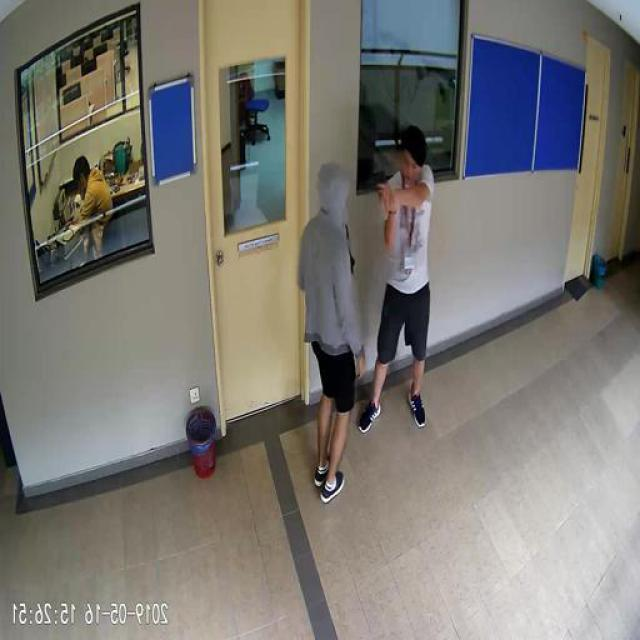Gun: (362, 168, 390, 204)
